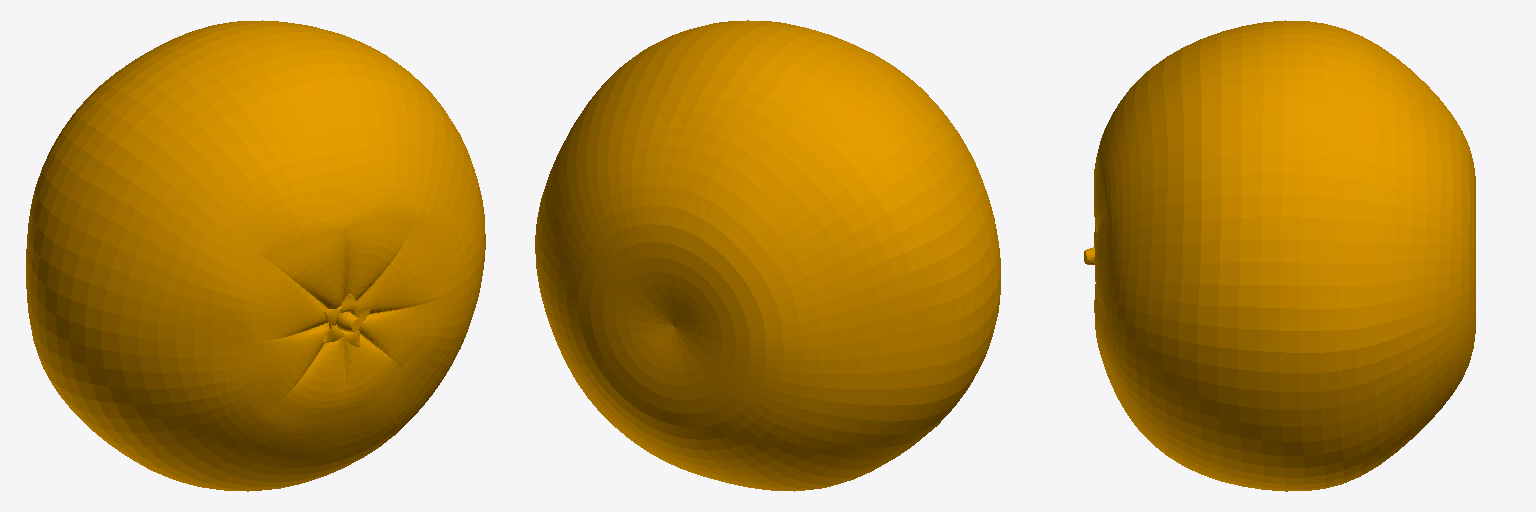
URDF robot description (apple):
<?xml version="1.0" encoding="utf-8"?>
<robot name="apple">
  <link name="base_link">
    <contact>
      <lateral_friction value="0.5"/>
      <rolling_friction value="0.0"/>
      <contact_cfm value="0.0"/>
      <contact_erp value="1.0"/>
    </contact>
    <inertial>
      <origin rpy="0 0 0" xyz="0 0 0"/>
      <mass value="5"/>
      <inertia ixx="0" ixy="0" ixz="0" iyy="0" iyz="0" izz="0"/>
    </inertial>
    <visual>
      <origin rpy="1.57 0 0" xyz="0 0 0"/>
      <geometry>
        <mesh filename="models/meshes/orange/12204_Fruit_v1_L3.obj" scale="0.012 0.012 0.012"/>
      </geometry>
<!--       <material name="tray_material">
        <color rgba="0.954 0.253 0 1"/>
      </material> -->
    </visual>
    <collision>
      <origin rpy="1.57 0 0" xyz="0 0 0"/>
      <geometry>
        <mesh filename="models/meshes/orange/12204_Fruit_v1_L3.obj" scale="0.012 0.012 0.012"/>
      </geometry>
    </collision>
  </link>
</robot>

--- What the picture shows (computed from the rendered views, not written in the file) ---
Views: 3 orthographic renders of the robot side by side, from view 1: azimuth 30°, elevation 25°; view 2: azimuth 150°, elevation 25°; view 3: azimuth 270°, elevation 25°.
Model apple with 1 links and 0 joints (none), rooted at base_link, posed all joints at 0.
Links seen in each view (by area): view 1: base_link; view 2: base_link; view 3: base_link.
Link boxes in pixels (box(x1,y1,x2,y2)): base_link: box(26, 20, 485, 491); base_link: box(535, 20, 1000, 491); base_link: box(1084, 20, 1475, 491).
Bounding box of the posed robot: 0.1143 × 0.0944 × 0.1144 m (x, y, z).
Meshes: 1 distinct files referenced, 1 mesh visuals loaded (1 OBJ).